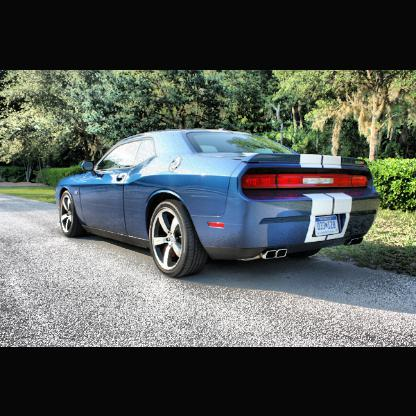Dodge Challenger SRT8 2011: (57, 130, 378, 277)
